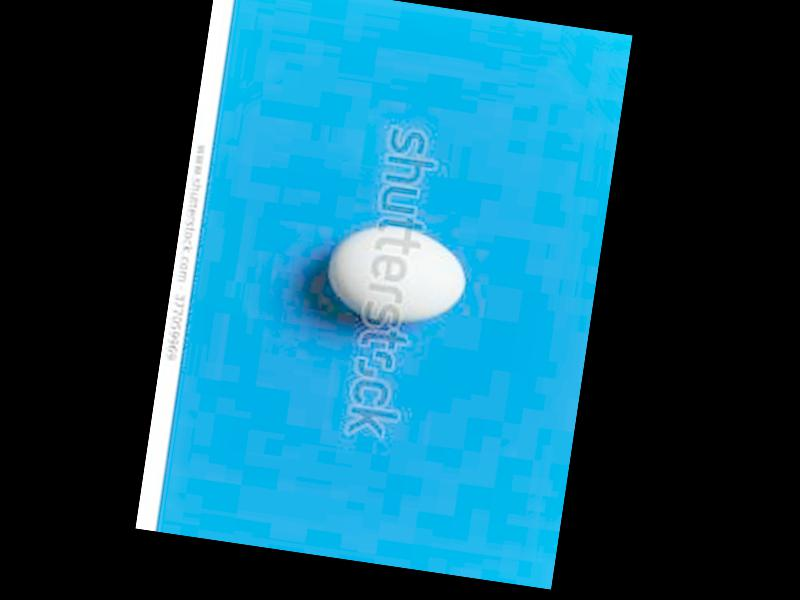Eggs: (322, 220, 475, 331)
